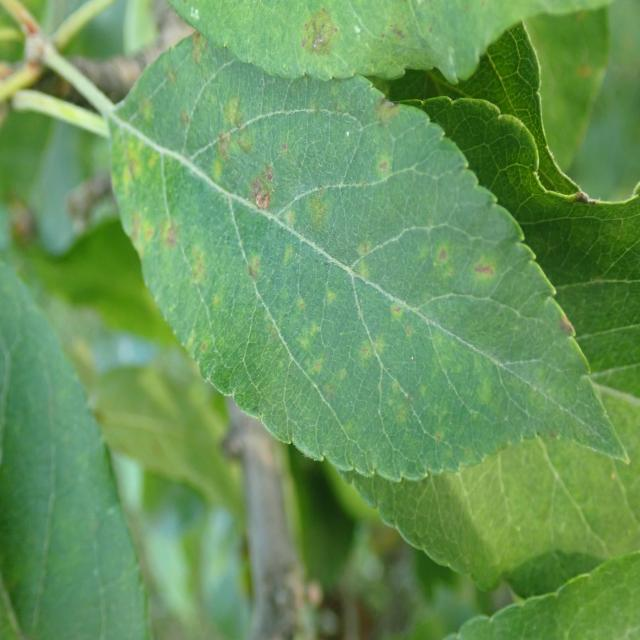scab: (90, 0, 599, 436)
